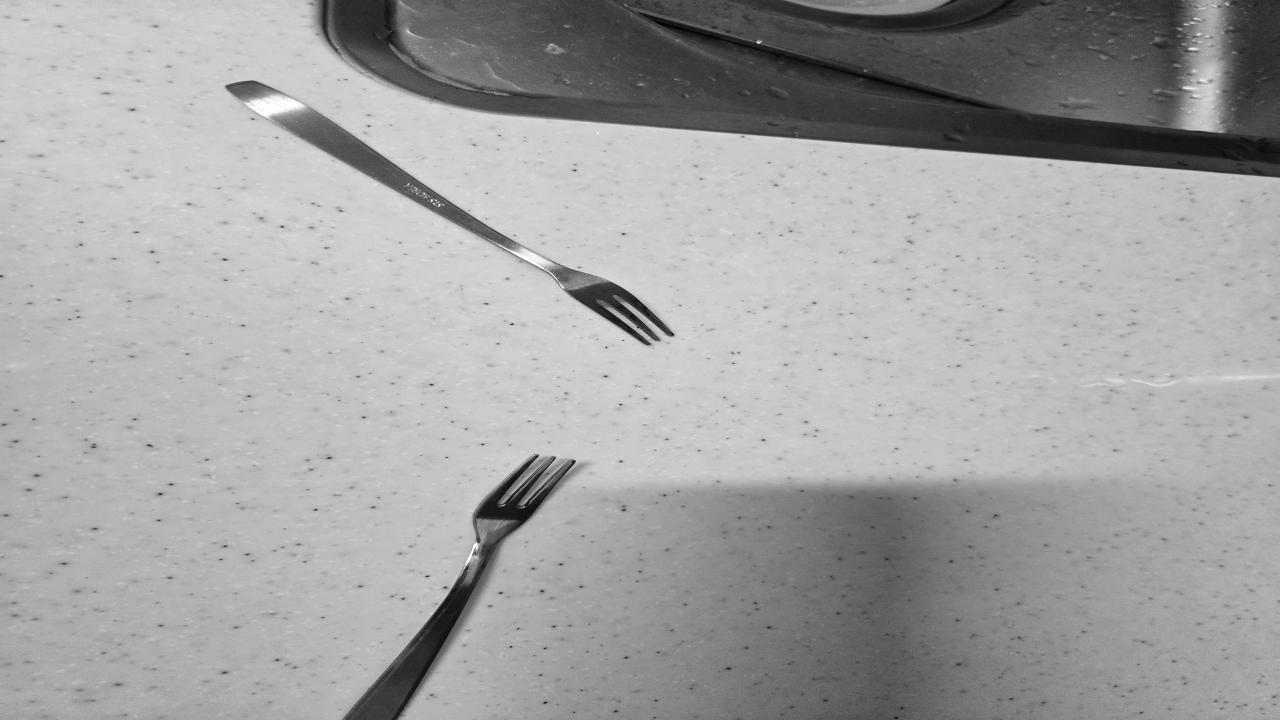fork: (225, 81, 667, 343), (301, 448, 585, 718)
